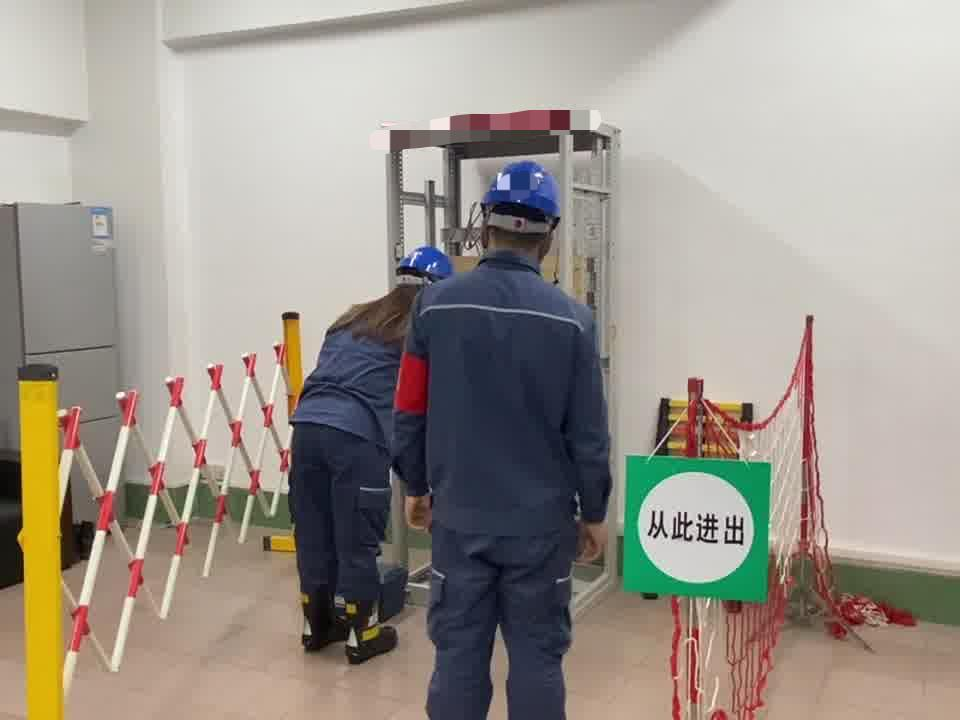halt: (480, 160, 567, 264), (402, 248, 456, 283)
